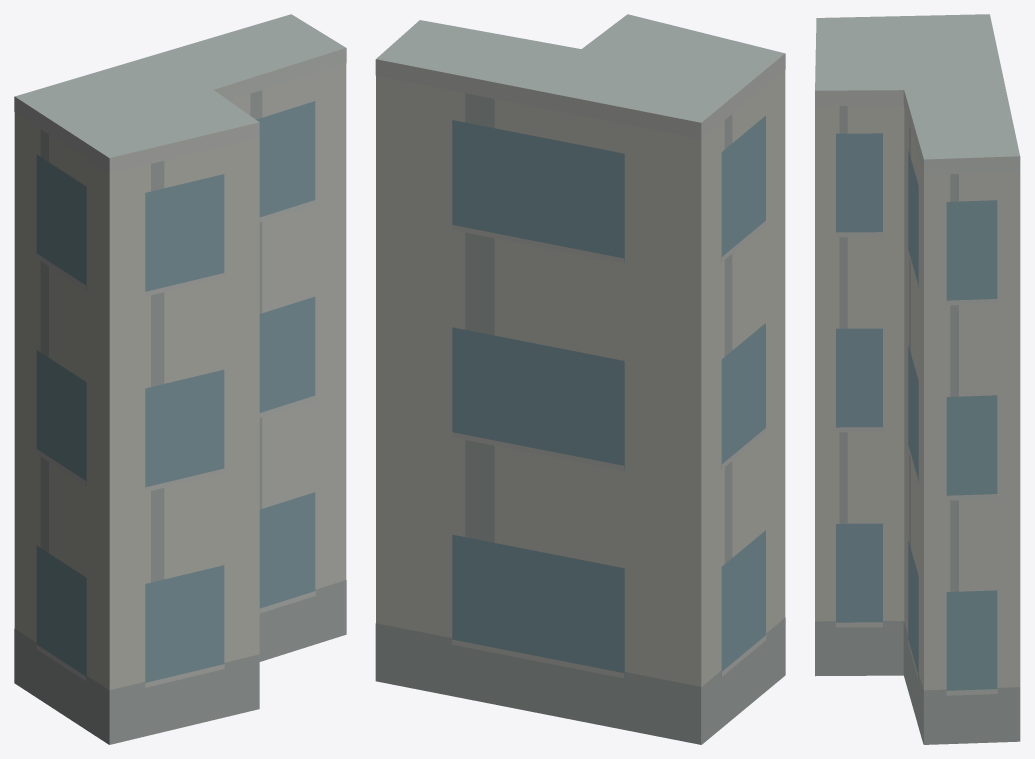
Rendered from survey-upis-32633673.glb.
The picture shows the model from 3 angles, left to right: view 1: azimuth 30°, elevation 25°; view 2: azimuth 150°, elevation 25°; view 3: azimuth 270°, elevation 25°; orthographic projection. The views are drawn at different scales.
Visible parts, largest first — view 1: survey-upis-32633673.tmp; view 2: survey-upis-32633673.tmp; view 3: survey-upis-32633673.tmp.
Part boxes in pixels (x1=…): survey-upis-32633673.tmp: x1=14, y1=14, x2=346, y2=744; survey-upis-32633673.tmp: x1=375, y1=14, x2=785, y2=744; survey-upis-32633673.tmp: x1=815, y1=14, x2=1020, y2=744.
Size of the model in its own units: 4.89 by 9.15 by 2.92.
